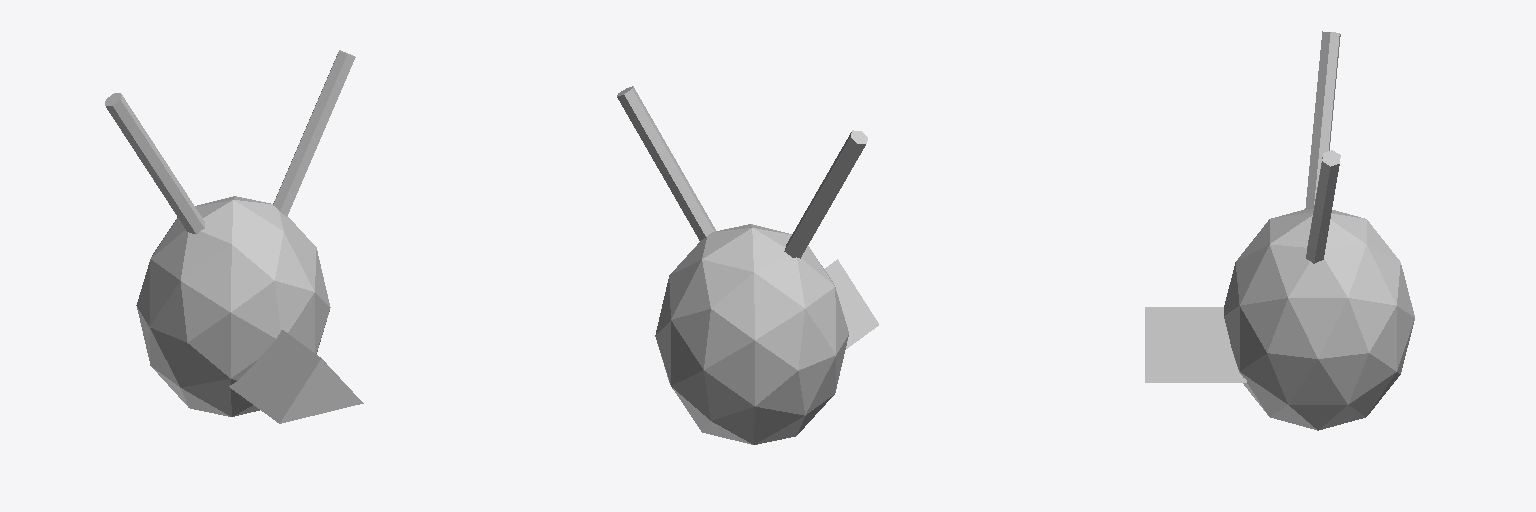
File: DeerHead.obj
3 views of the same model, side by side, from view 1: azimuth 30°, elevation 25°; view 2: azimuth 150°, elevation 25°; view 3: azimuth 270°, elevation 25° (orthographic).
Parts seen in each view (by area): view 1: DeerHead; view 2: DeerHead; view 3: DeerHead.
Boxes of the visible parts, box(x1,y1,x2,y2) form: DeerHead: box(105, 50, 363, 423); DeerHead: box(617, 86, 878, 444); DeerHead: box(1145, 31, 1414, 430).
Bounding box in the file's own units: 0.5638 × 0.7372 × 0.5294.